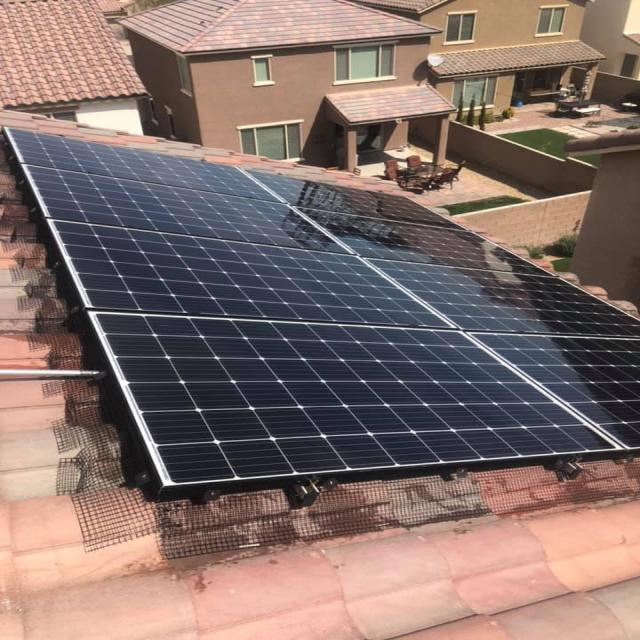clean-solar-panel: (7, 129, 638, 496)
